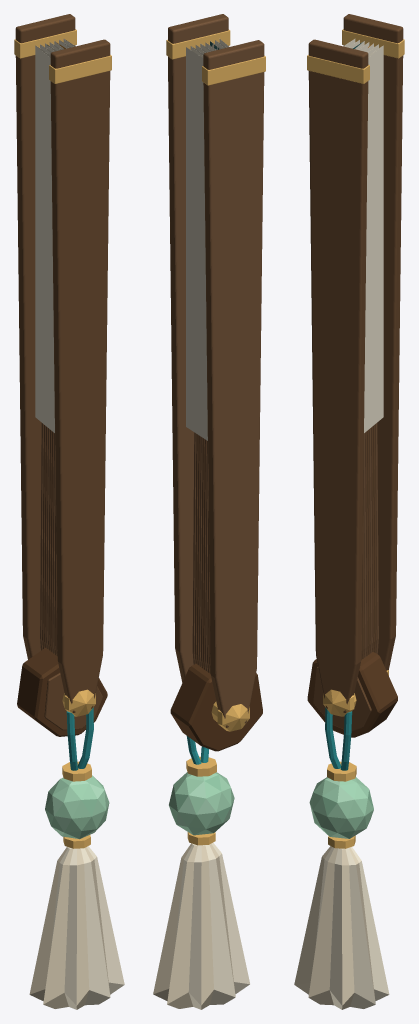
The model's file is Test_CheonFanClosed.fbx.
3 views of the same model, side by side, from view 1: azimuth 30°, elevation 25°; view 2: azimuth 210°, elevation 25°; view 3: azimuth 330°, elevation 25° (orthographic). The views are drawn at different scales.
Visible parts, largest first — view 1: Fan_Closed_Guard_Front, Fan_Closed_Guard_Back, Fan_IvoryPleatedTassel, Fan_Closed_PaperAccordion, Fan_FacetedJadeBead, Fan_PivotWoodHousing, Fan_PivotFace, Fan_Closed_GoldTip_Front, Fan_Closed_GoldTip_Back, Fan_Closed_InnerRib_13, Fan_Closed_InnerRib_12, Fan_Closed_InnerRib_09 (+10 smaller); view 2: Fan_Closed_Guard_Back, Fan_Closed_Guard_Front, Fan_IvoryPleatedTassel, Fan_Closed_PaperAccordion, Fan_PivotWoodHousing, Fan_FacetedJadeBead, Fan_Closed_GoldTip_Back, Fan_Closed_GoldTip_Front, Fan_PivotGoldCap_Back, Fan_Closed_InnerRib_06, Fan_Closed_InnerRib_05, Fan_Closed_InnerRib_01 (+7 smaller); view 3: Fan_Closed_Guard_Front, Fan_Closed_Guard_Back, Fan_IvoryPleatedTassel, Fan_Closed_PaperAccordion, Fan_FacetedJadeBead, Fan_PivotWoodHousing, Fan_PivotFace, Fan_Closed_GoldTip_Front, Fan_Closed_GoldTip_Back, Fan_Closed_InnerRib_13, Fan_Closed_InnerRib_09, Fan_Closed_InnerRib_12 (+10 smaller).
Part boxes in pixels (bbox=[...]): Fan_Closed_Guard_Front: bbox=[50, 39, 110, 712]; Fan_Closed_Guard_Back: bbox=[15, 14, 75, 659]; Fan_IvoryPleatedTassel: bbox=[29, 846, 124, 1009]; Fan_Closed_PaperAccordion: bbox=[35, 39, 75, 432]; Fan_FacetedJadeBead: bbox=[45, 775, 109, 839]; Fan_PivotWoodHousing: bbox=[17, 648, 107, 736]; Fan_PivotFace: bbox=[44, 673, 102, 730]; Fan_Closed_GoldTip_Front: bbox=[49, 55, 111, 83]; Fan_Closed_GoldTip_Back: bbox=[14, 29, 76, 58]; Fan_Closed_InnerRib_13: bbox=[40, 423, 43, 650]; Fan_Closed_InnerRib_12: bbox=[42, 424, 45, 649]; Fan_Closed_InnerRib_09: bbox=[48, 429, 51, 650]; Fan_Closed_Guard_Back: bbox=[203, 40, 264, 727]; Fan_Closed_Guard_Front: bbox=[168, 14, 228, 682]; Fan_IvoryPleatedTassel: bbox=[153, 843, 249, 1009]; Fan_Closed_PaperAccordion: bbox=[186, 39, 229, 440]; Fan_PivotWoodHousing: bbox=[170, 663, 262, 751]; Fan_FacetedJadeBead: bbox=[169, 772, 234, 835]; Fan_Closed_GoldTip_Back: bbox=[202, 55, 265, 85]; Fan_Closed_GoldTip_Front: bbox=[166, 29, 230, 59]; Fan_PivotGoldCap_Back: bbox=[217, 704, 249, 731]; Fan_Closed_InnerRib_06: bbox=[203, 439, 206, 669]; Fan_Closed_InnerRib_05: bbox=[201, 437, 204, 668]; Fan_Closed_InnerRib_01: bbox=[192, 432, 196, 664]; Fan_Closed_Guard_Front: bbox=[308, 39, 368, 712]; Fan_Closed_Guard_Back: bbox=[343, 14, 403, 670]; Fan_IvoryPleatedTassel: bbox=[294, 846, 389, 1009]; Fan_Closed_PaperAccordion: bbox=[343, 38, 383, 432]; Fan_FacetedJadeBead: bbox=[309, 777, 373, 838]; Fan_PivotWoodHousing: bbox=[307, 652, 397, 737]; Fan_PivotFace: bbox=[313, 667, 371, 730]; Fan_Closed_GoldTip_Front: bbox=[307, 55, 369, 83]; Fan_Closed_GoldTip_Back: bbox=[342, 29, 404, 58]; Fan_Closed_InnerRib_13: bbox=[375, 423, 378, 653]; Fan_Closed_InnerRib_09: bbox=[367, 429, 370, 654]; Fan_Closed_InnerRib_12: bbox=[373, 424, 376, 652].
Size of the model in its own units: 0.0397 by 0.444 by 0.0453.
Materials: 12 (1 with a texture image).
